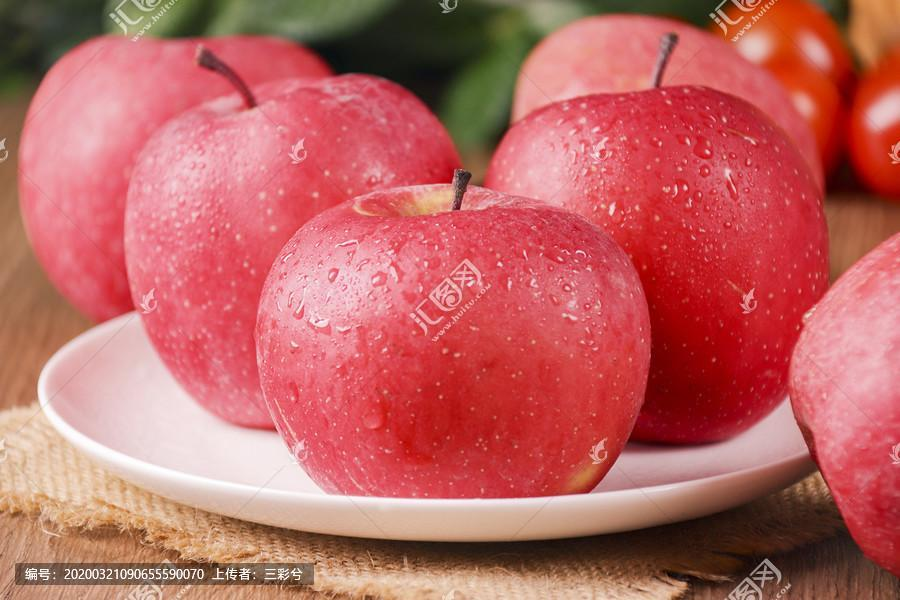apple: (487, 71, 828, 449), (114, 73, 463, 435), (273, 188, 661, 510)
